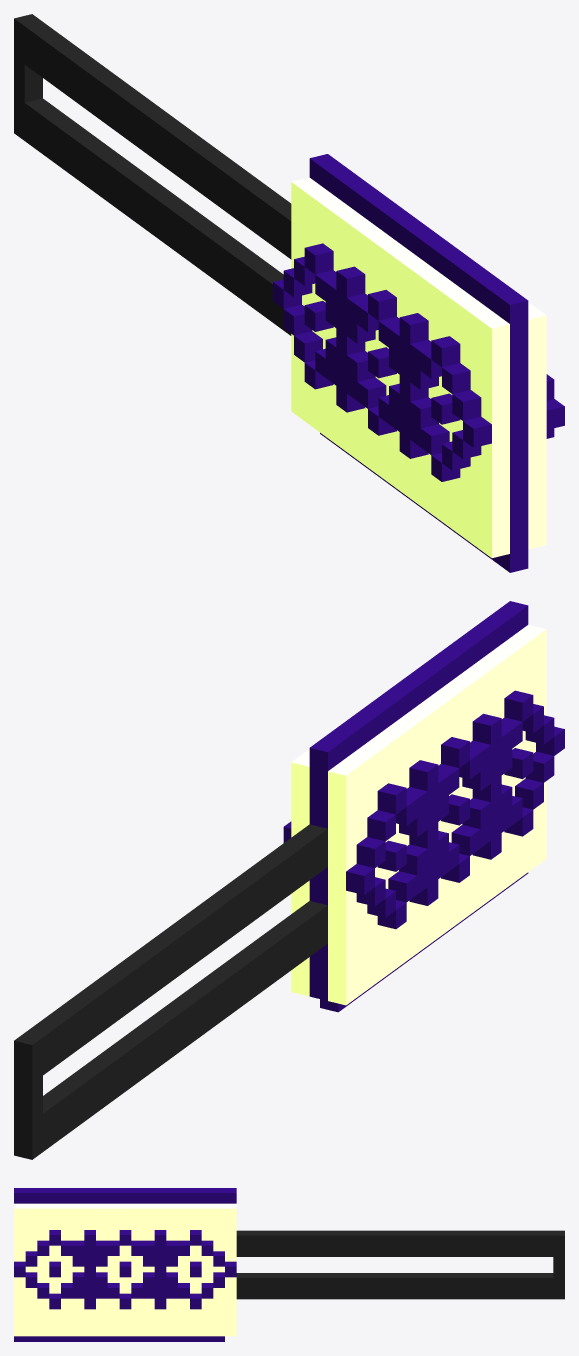
The model's file is dvdSign.glb.
3 views of the same model, one above another, from view 1: azimuth 30°, elevation 25°; view 2: azimuth 150°, elevation 25°; view 3: azimuth 270°, elevation 25° (orthographic). The views are drawn at different scales.
Parts seen in each view (by area): view 1: ObjObject; view 2: ObjObject; view 3: ObjObject.
Part boxes in pixels (x1,y1,x2,y2): ObjObject: (14,14,564,572); ObjObject: (14,601,564,1159); ObjObject: (14,1188,564,1341).
Bounding box in the file's own units: 0.5 × 1.4 × 4.7.
2 materials, 1 textured.
